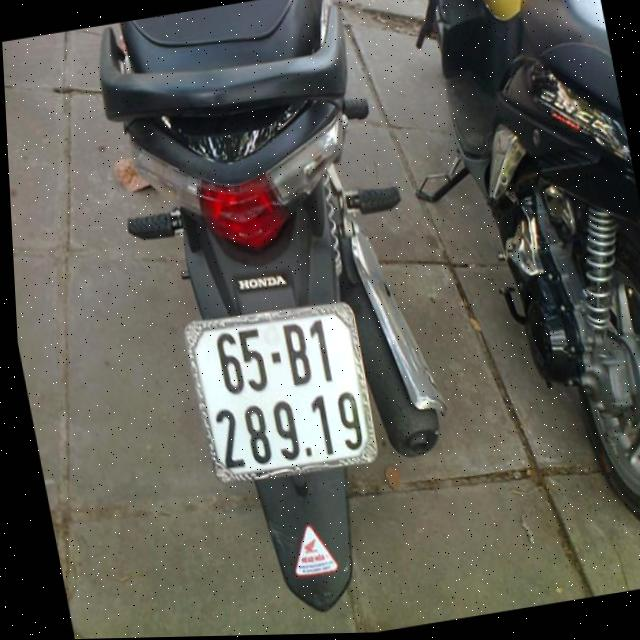motorcycle: (77, 0, 484, 634), (385, 0, 640, 584)
plate: (179, 293, 380, 494)
